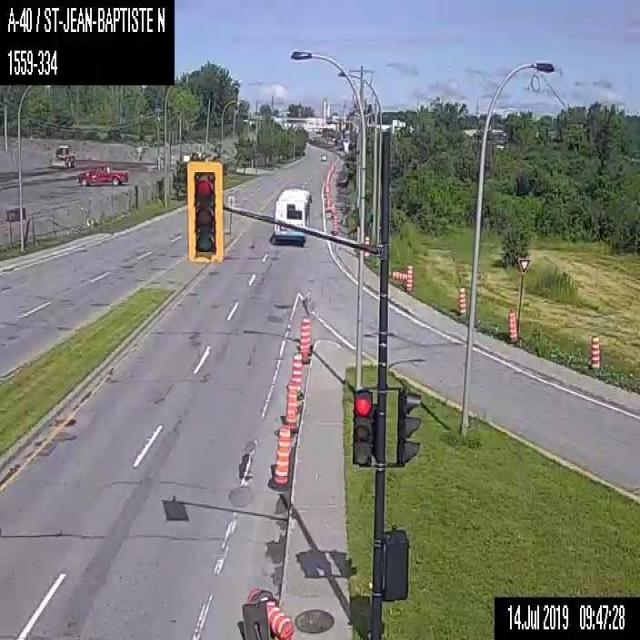bus: (273, 187, 311, 243)
construction: (241, 584, 294, 639), (270, 426, 291, 488), (284, 384, 298, 433), (290, 352, 302, 398), (299, 317, 311, 363), (588, 334, 599, 370), (456, 284, 466, 316), (508, 307, 516, 341), (406, 264, 414, 290), (363, 233, 369, 257), (392, 270, 406, 280), (268, 630, 282, 638), (333, 217, 337, 234), (326, 198, 330, 212), (331, 201, 334, 213)
vehicle: (78, 164, 128, 185), (50, 144, 74, 167), (320, 153, 326, 161)
